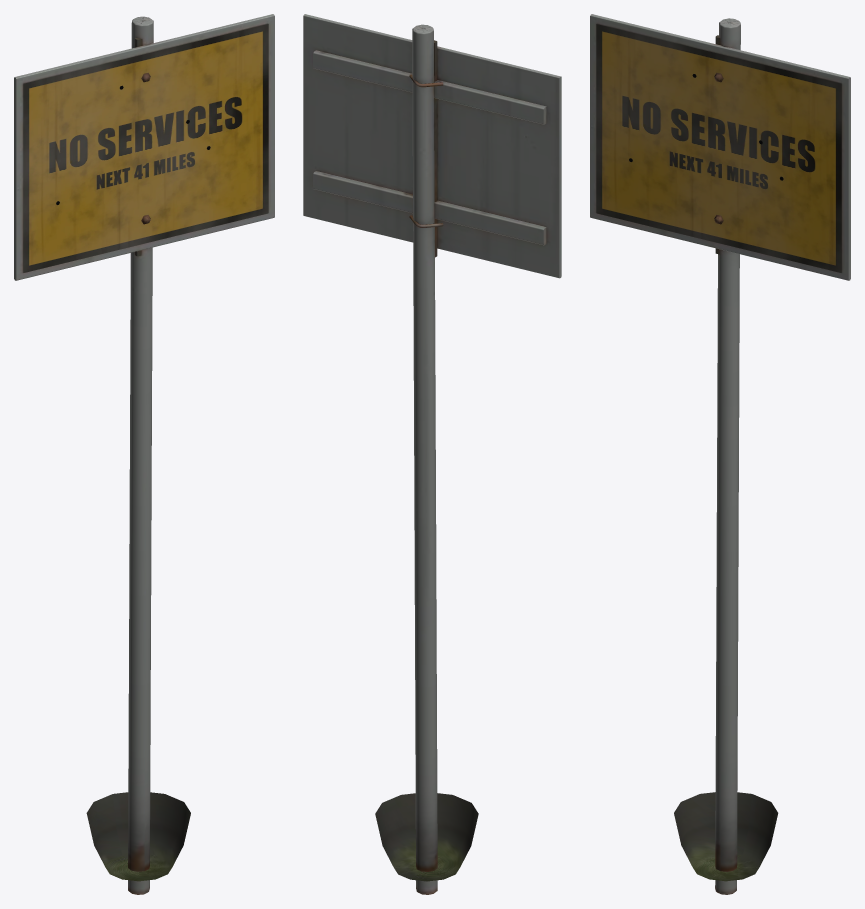
The model's file is roadsign.glb.
3 renders of one model, left to right at view 1: azimuth 30°, elevation 25°; view 2: azimuth 150°, elevation 25°; view 3: azimuth 330°, elevation 25°, orthographic.
Visible parts, largest first — view 1: roadsign; view 2: roadsign; view 3: roadsign.
Part boxes in pixels (bbox=[...]): roadsign: bbox=[14, 14, 274, 894]; roadsign: bbox=[303, 14, 561, 894]; roadsign: bbox=[590, 14, 850, 894].
Bounding box in the file's own units: 0.8 × 2.57 × 0.28.
Materials: 1 (1 with a texture image).
